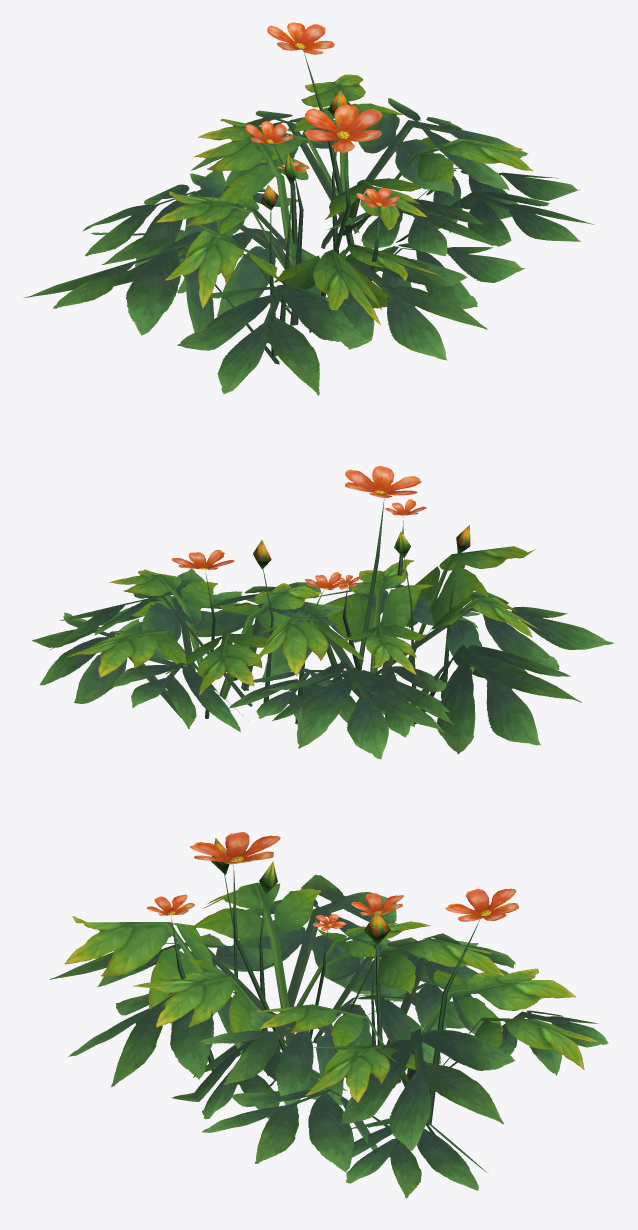
Rendered from wm_灌木洛阳城大灌09.fbx.
The picture shows the model from 3 angles, top to bottom: view 1: azimuth 30°, elevation 25°; view 2: azimuth 150°, elevation 25°; view 3: azimuth 270°, elevation 25°; orthographic projection. The views are drawn at different scales.
Visible parts, largest first — view 1: wm_灌木洛阳城大灌09; view 2: wm_灌木洛阳城大灌09; view 3: wm_灌木洛阳城大灌09.
Boxes of the visible parts, bbox=[...] form: wm_灌木洛阳城大灌09: bbox=[22, 22, 593, 396]; wm_灌木洛阳城大灌09: bbox=[32, 466, 614, 759]; wm_灌木洛阳城大灌09: bbox=[49, 831, 608, 1198].
Bounding box in the file's own units: 326 × 129 × 268.
